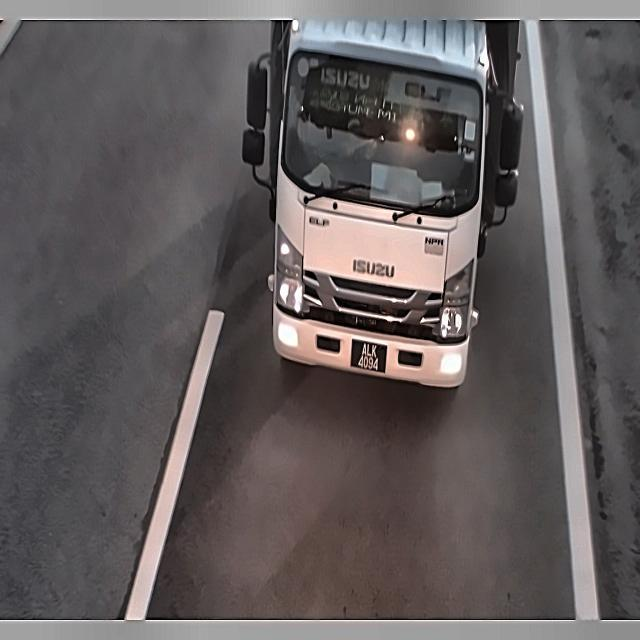car: (349, 334, 388, 378)
